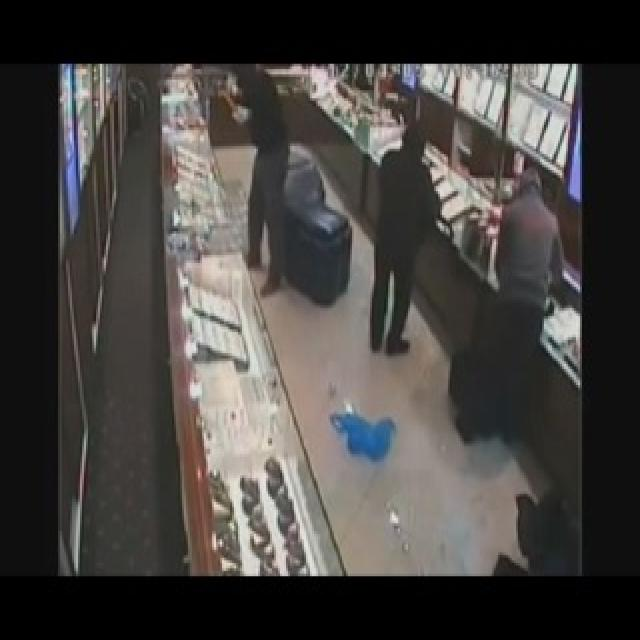thief: (365, 115, 438, 372), (486, 164, 558, 411), (233, 66, 291, 298)
